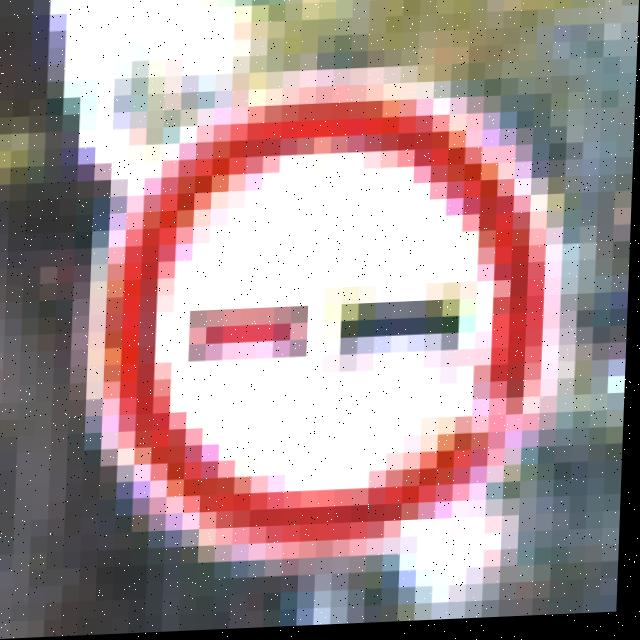no_overtaking: (113, 65, 556, 542)
